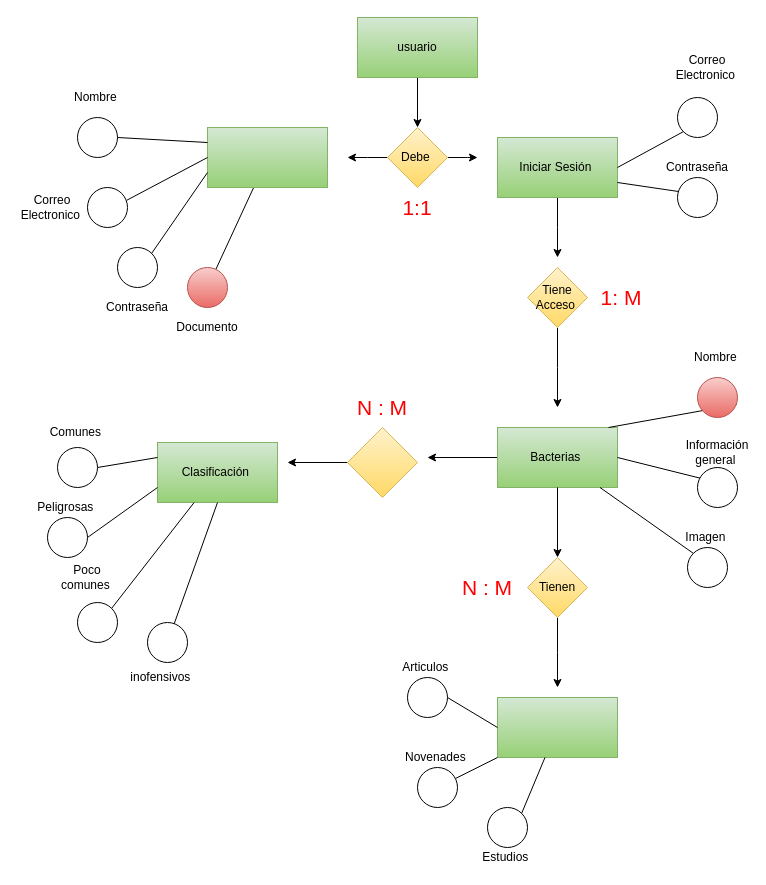
Some shapes in this 766 by 885 pixel diagram are drawn without their labels. The box of each missing label's shape, as (x1, y1, x2, y2) in pixels:
Noticias: (496, 696, 618, 758)
Registrarse: (206, 126, 328, 188)
Se van a encontrar: (346, 426, 418, 498)
